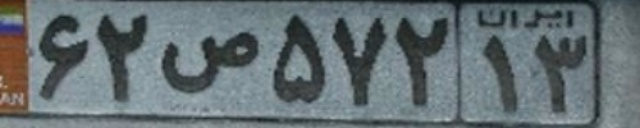1: (481, 34, 518, 111)
2: (393, 15, 451, 104), (96, 13, 146, 101)
3: (533, 33, 587, 111)
5: (271, 14, 325, 103)
6: (37, 13, 84, 98)
7: (332, 14, 385, 106)
saat: (159, 31, 262, 93)
